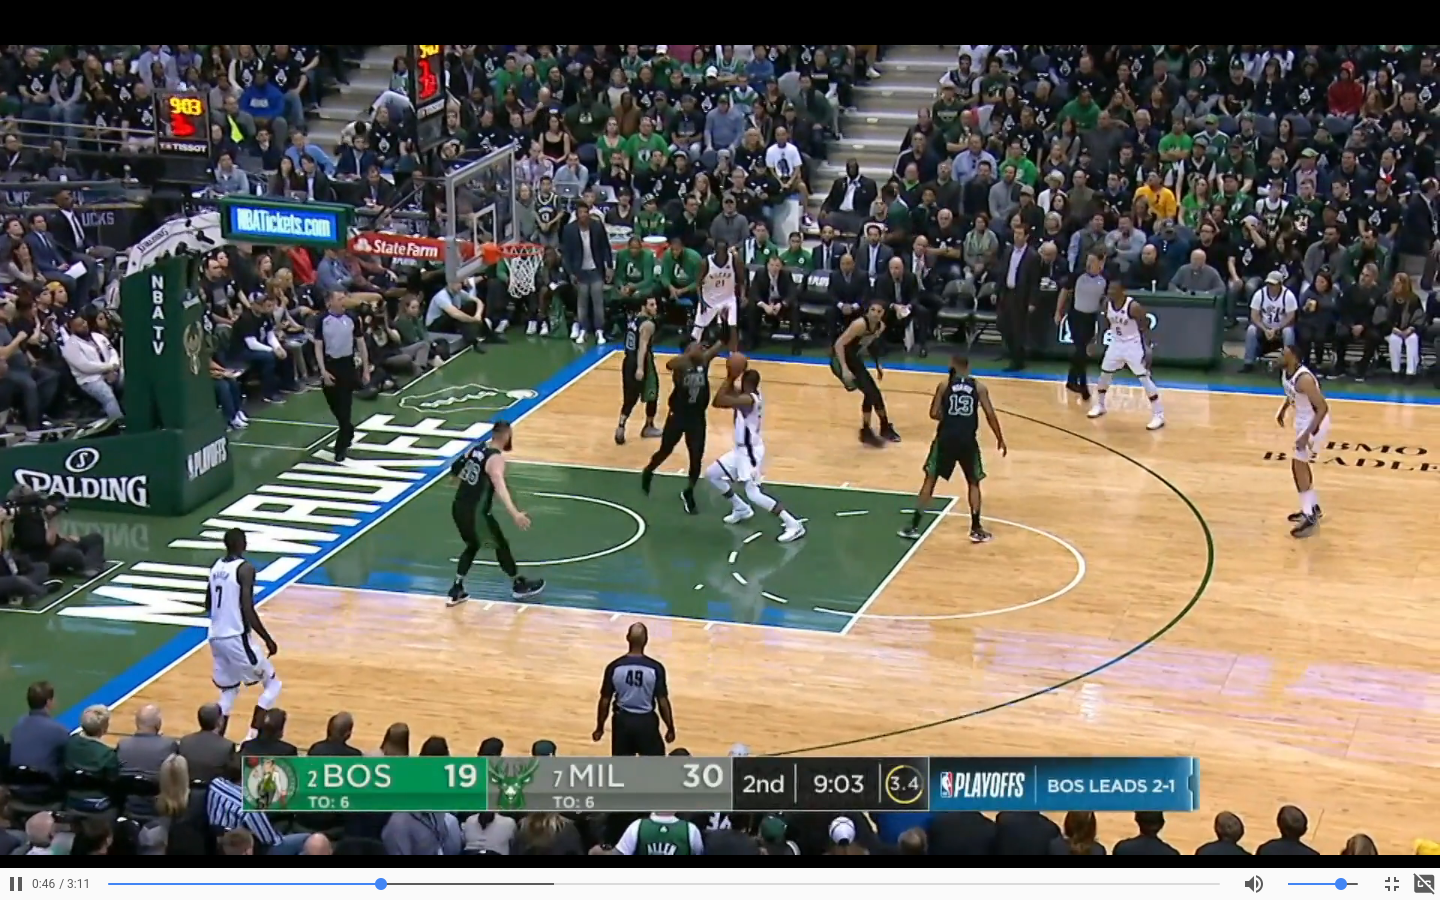basketball: (724, 346, 753, 380)
basketball player: (421, 411, 553, 608), (905, 354, 1008, 545), (708, 371, 813, 549), (193, 525, 282, 717), (639, 332, 718, 516), (1267, 334, 1335, 540), (1088, 279, 1164, 428), (825, 296, 899, 451), (608, 289, 667, 454), (678, 239, 745, 348)
referee: (590, 611, 681, 757), (307, 286, 368, 457), (1052, 246, 1107, 402)
